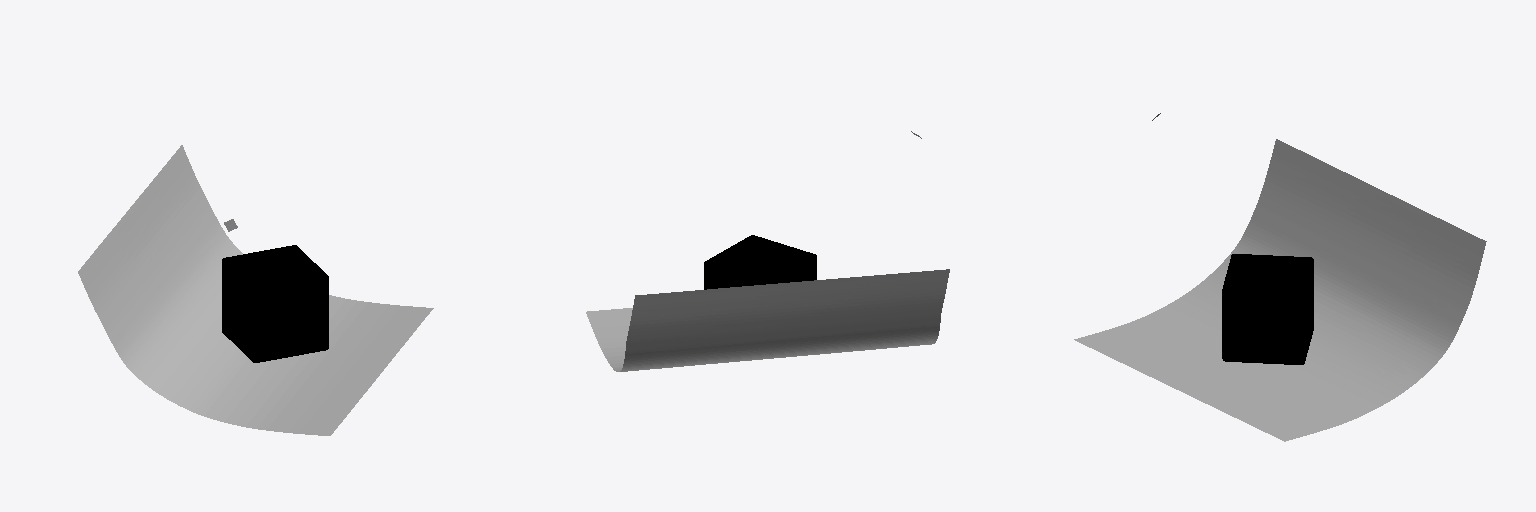
Rendered from torus_maya_o.obj.
The picture shows the model from 3 angles: view 1: azimuth 30°, elevation 25°; view 2: azimuth 150°, elevation 25°; view 3: azimuth 270°, elevation 25°; orthographic projection.
Parts seen in each view (by area): view 1: torus:Mesh group polySurface2 polySurface4 polySurface8, polySurface1 torus:Mesh group; view 2: torus:Mesh group polySurface2 polySurface4 polySurface8, polySurface1 torus:Mesh group; view 3: torus:Mesh group polySurface2 polySurface4 polySurface8, polySurface1 torus:Mesh group.
Boxes of the visible parts, <box> form: torus:Mesh group polySurface2 polySurface4 polySurface8: <box>78,145,433,435</box>; polySurface1 torus:Mesh group: <box>222,245,328,362</box>; torus:Mesh group polySurface2 polySurface4 polySurface8: <box>586,269,949,371</box>; polySurface1 torus:Mesh group: <box>704,235,816,289</box>; torus:Mesh group polySurface2 polySurface4 polySurface8: <box>1074,139,1486,441</box>; polySurface1 torus:Mesh group: <box>1222,254,1313,364</box>.
Bounding box in the file's own units: 81.31 × 43.74 × 80.75.